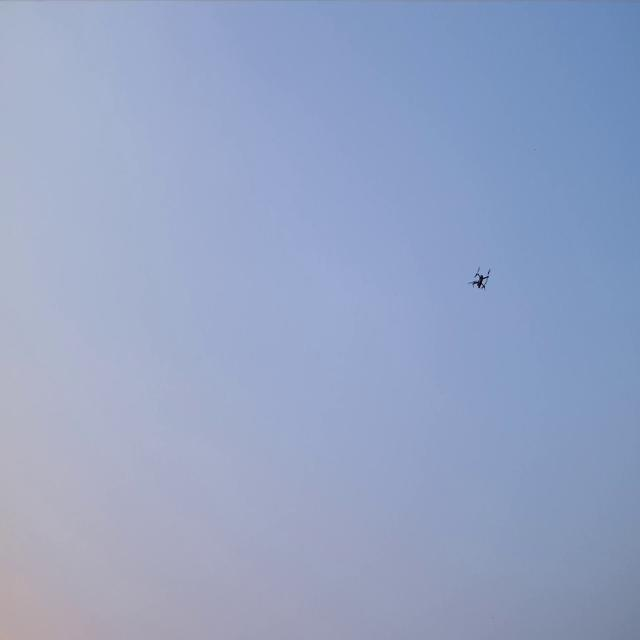UAV: (468, 266, 492, 292)
